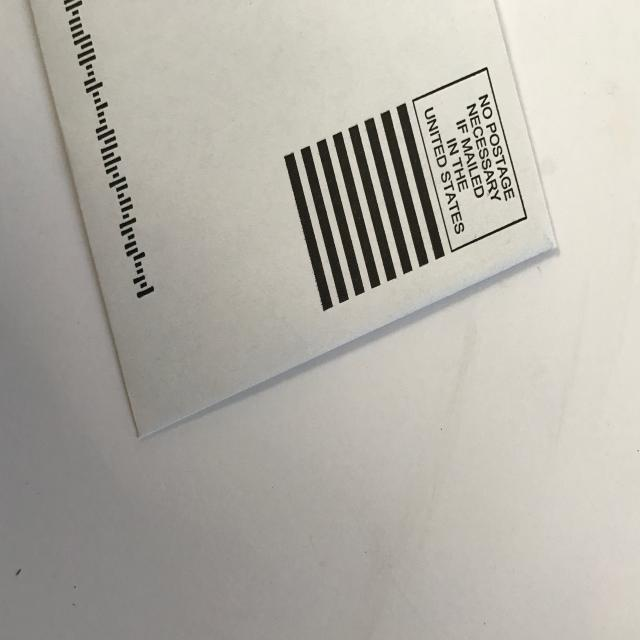paper: (5, 0, 575, 454)
